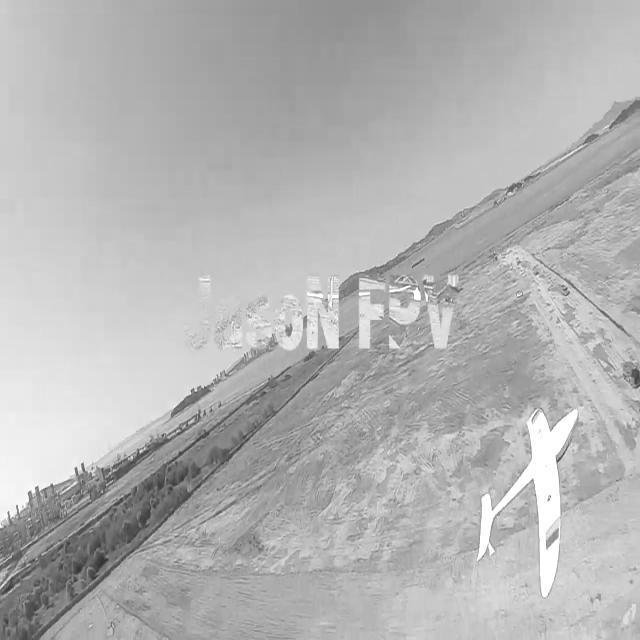iha: (506, 404, 556, 598)
